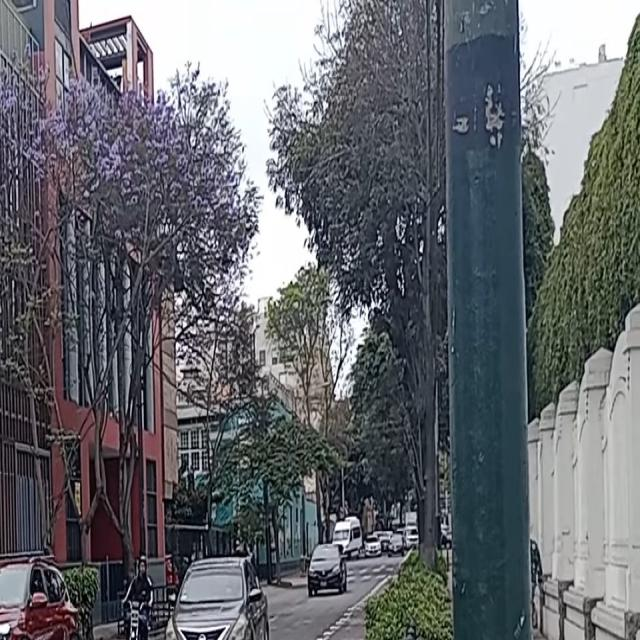car: (162, 558, 270, 640), (0, 554, 74, 640), (303, 538, 345, 596)
motorcycle: (120, 582, 154, 640)
